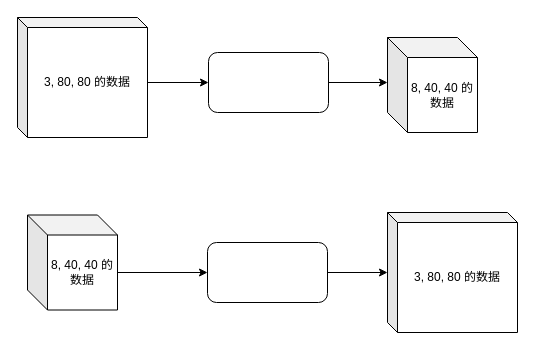
Image size: 535x350. Some labels were removed from this diagram. The shapes that lost their labels are listed below. From the top down, each one's centre as x and y in pixels, then its label:
At point (268, 82): "卷积层".
At point (267, 272): "反卷积层".
